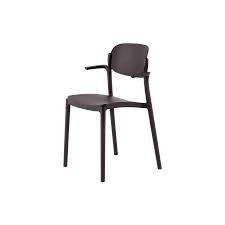chair: (43, 34, 175, 188)
